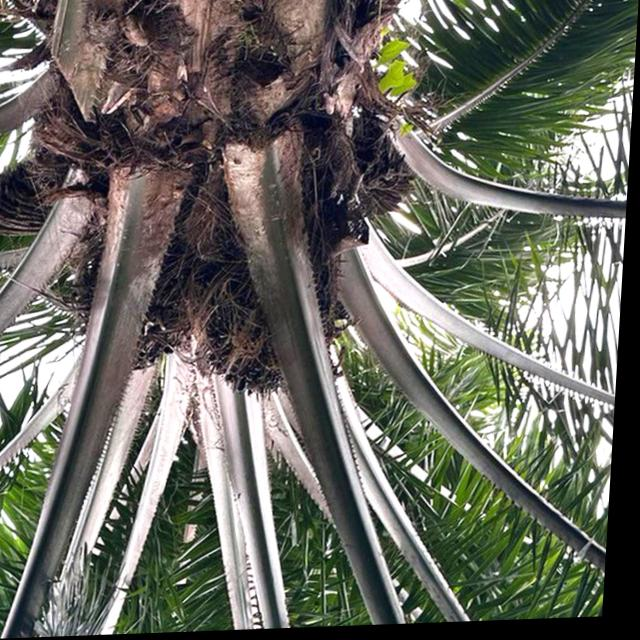unripe: (197, 218, 351, 411)
